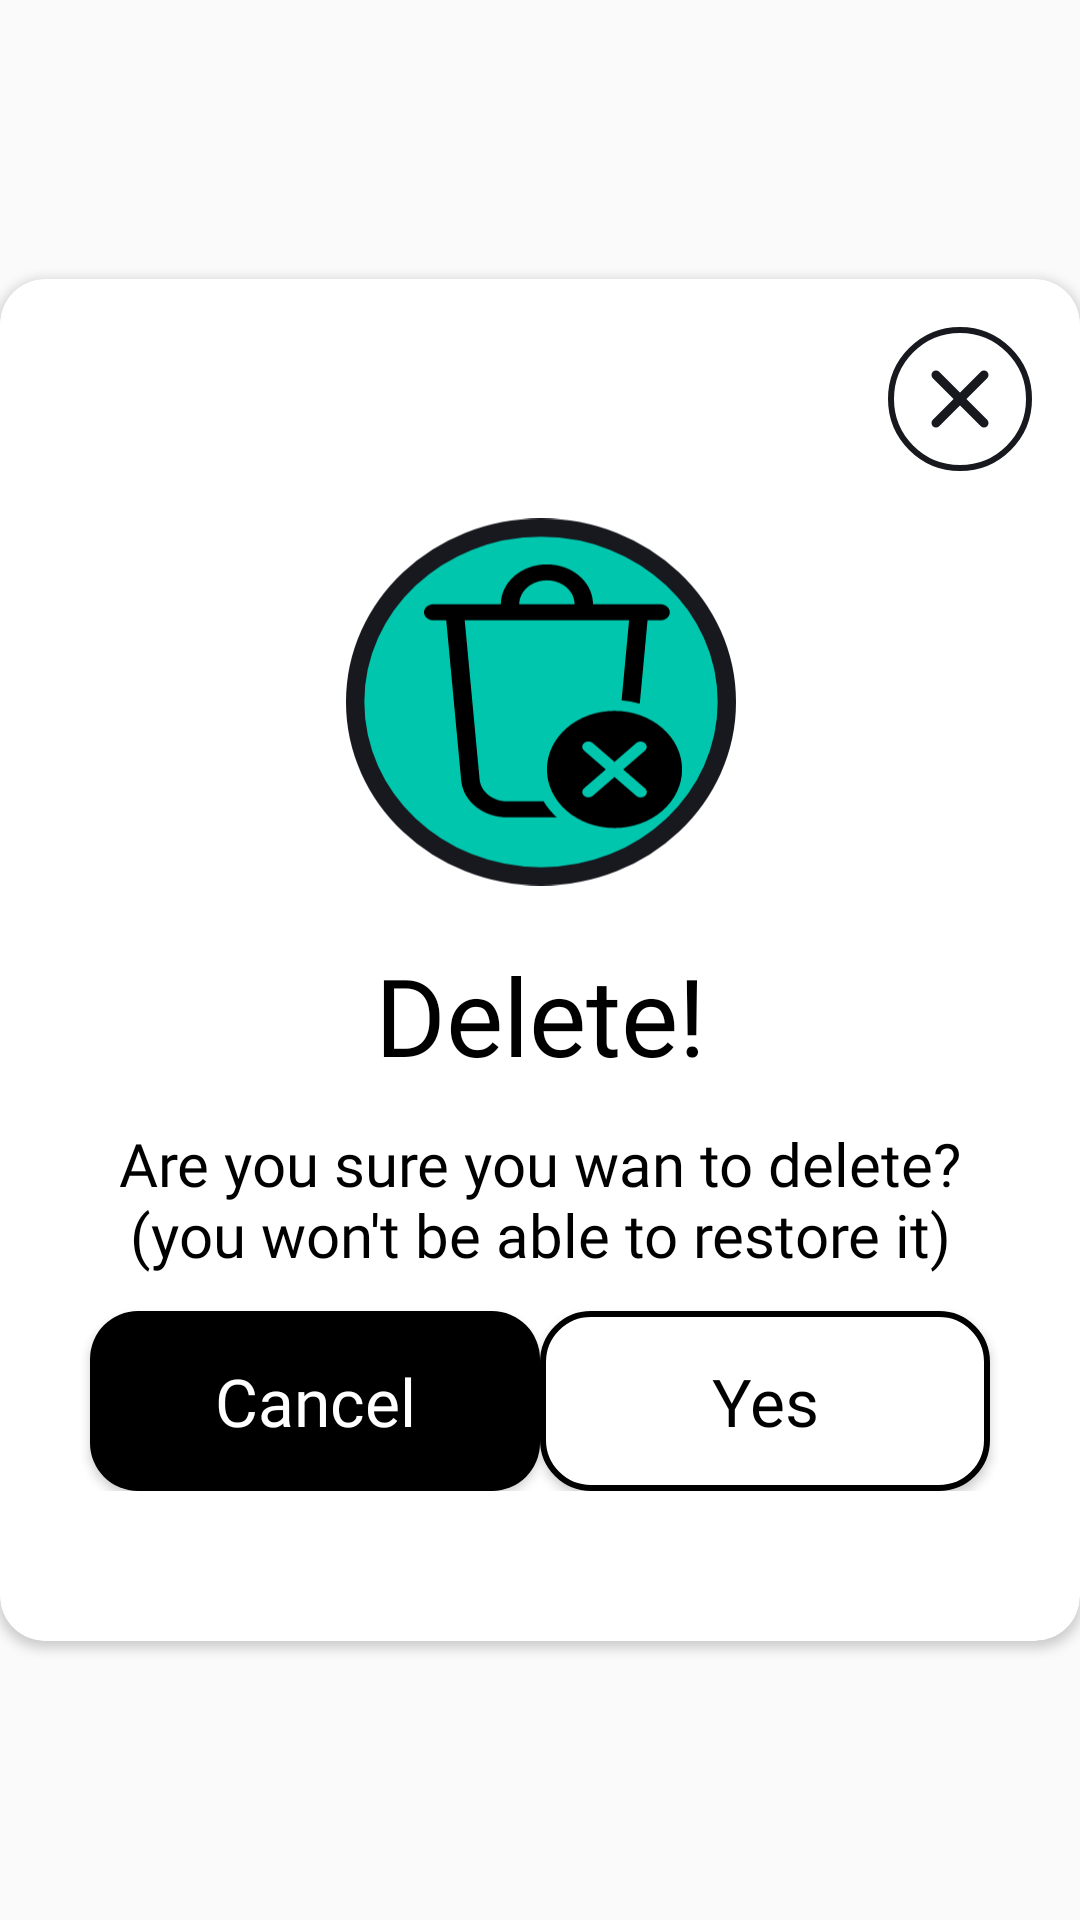

Where to tap for icons on this 1080 x 1920 app screen, as [x,y]:
cross: [960,399]
